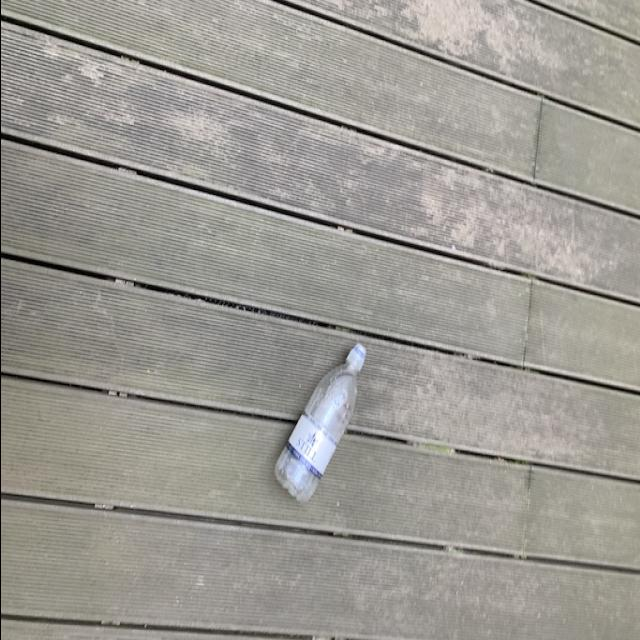PET: (268, 344, 366, 504)
